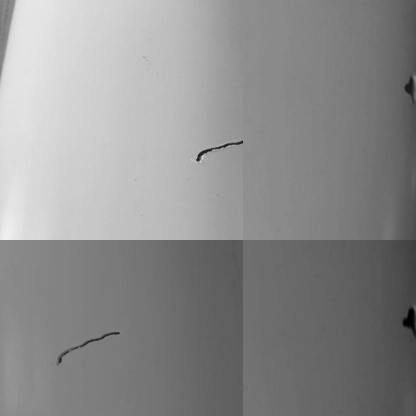fengxi: (53, 330, 127, 364), (187, 136, 246, 162)
kongdong: (399, 305, 414, 335), (403, 76, 413, 101)
